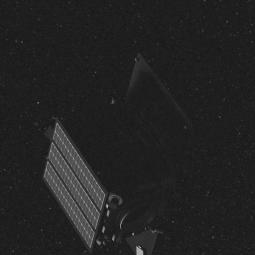proba_2: (33, 86, 206, 251)
